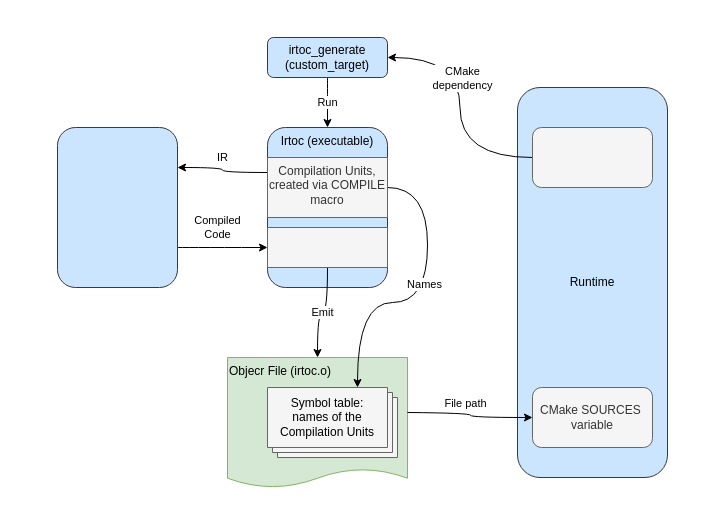
Some shapes in this 724 by 524 pixel diagram are drawn without their labels. The shapes that lost their labels are listed below. From the top down, each one's centre as x and y in pixels, then its label:
At (592,157): "runtime's dependenices".
At (117,207): "Compiler".
At (327,247): "Elf builder".
